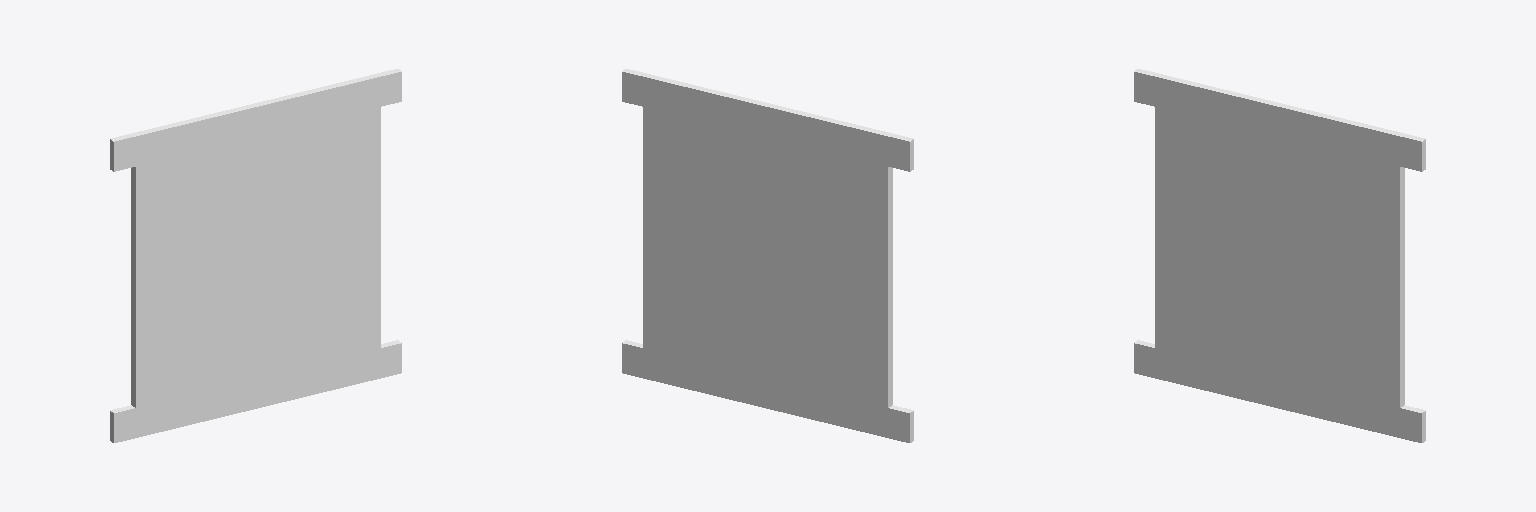
The model's file is Closet.obj.
3 views of the same model, side by side, from view 1: azimuth 30°, elevation 25°; view 2: azimuth 150°, elevation 25°; view 3: azimuth 330°, elevation 25° (orthographic).
Visible parts, largest first — view 1: object 1; view 2: object 1; view 3: object 1.
Boxes of the visible parts, box(x1,y1,x2,y2) form: object 1: box(110, 69, 401, 442); object 1: box(622, 69, 913, 442); object 1: box(1134, 69, 1425, 442).
Bounding box in the file's own units: 4 × 4 × 0.1.